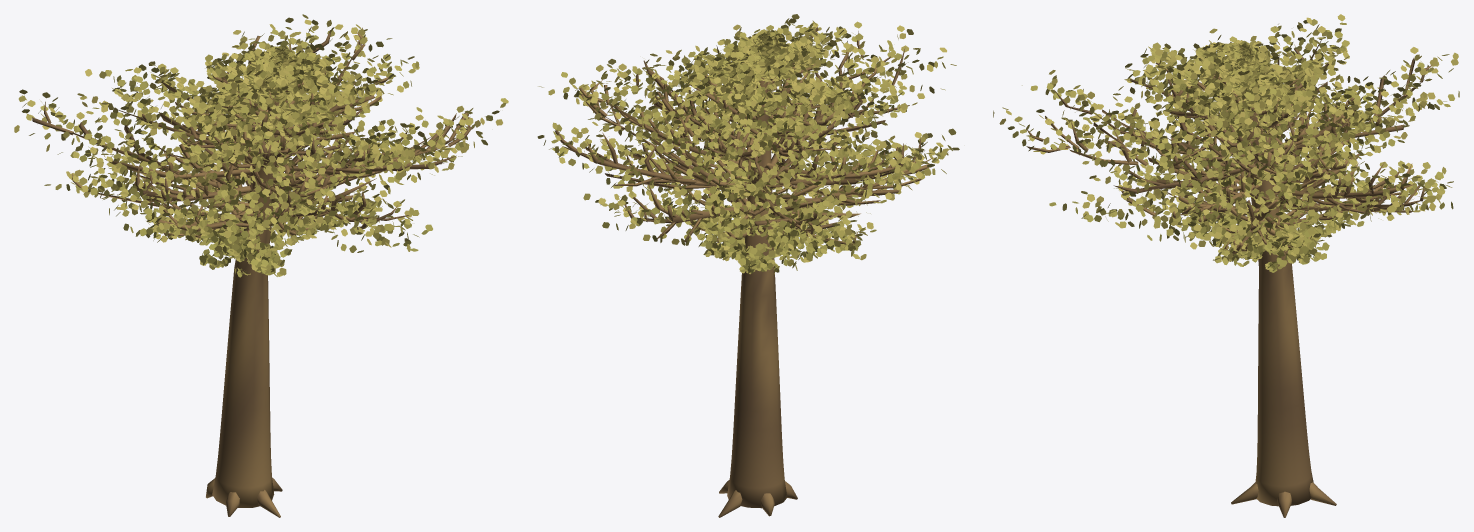
The model's file is golden_broadleaf_lod0.glb.
3 renders of one model, left to right at view 1: azimuth 30°, elevation 25°; view 2: azimuth 150°, elevation 25°; view 3: azimuth 270°, elevation 25°, orthographic. The views are drawn at different scales.
Visible parts, largest first — view 1: Leaves, Trunk; view 2: Leaves, Trunk; view 3: Leaves, Trunk.
Boxes of the visible parts, x1,y1,x2,y2 form: Leaves: (14,14,508,277); Trunk: (32,27,471,517); Leaves: (537,14,959,275); Trunk: (555,27,934,517); Leaves: (993,14,1459,272); Trunk: (1026,39,1432,517).
Size of the model in its own units: 5.26 by 5.53 by 5.03.
